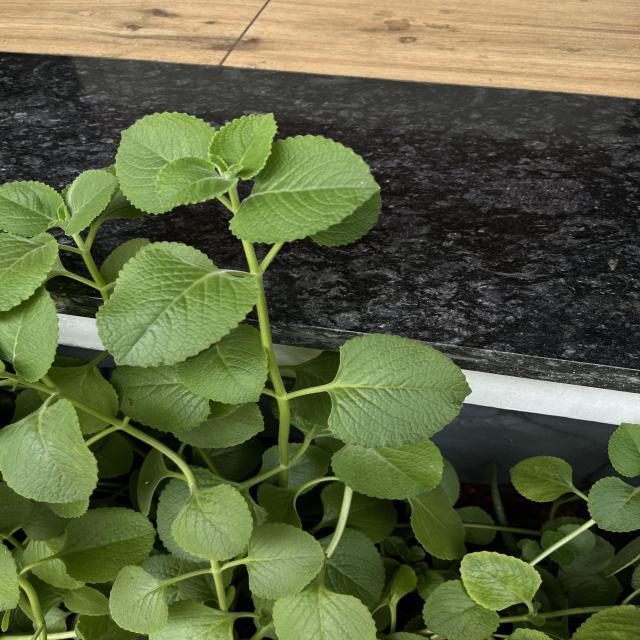Plectranthus barbatus: (94, 246, 260, 368), (326, 331, 474, 450), (228, 132, 382, 246), (0, 397, 101, 504), (114, 111, 214, 215), (173, 322, 271, 406), (62, 506, 156, 584), (330, 438, 446, 501), (170, 482, 254, 562), (245, 522, 326, 601), (0, 285, 60, 383), (206, 109, 282, 180), (458, 550, 544, 612), (421, 578, 501, 640), (108, 563, 170, 635), (153, 154, 232, 210), (64, 168, 119, 236), (0, 178, 61, 238), (508, 455, 574, 503), (586, 476, 640, 534)
